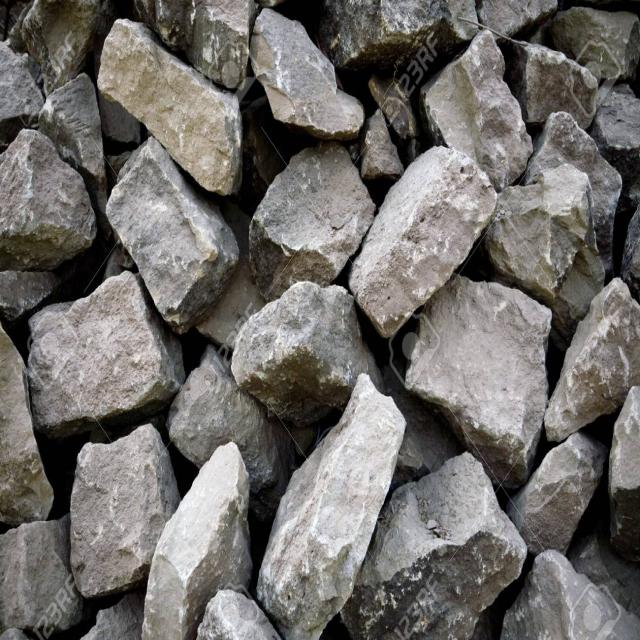Igneous: (1, 5, 640, 639)
